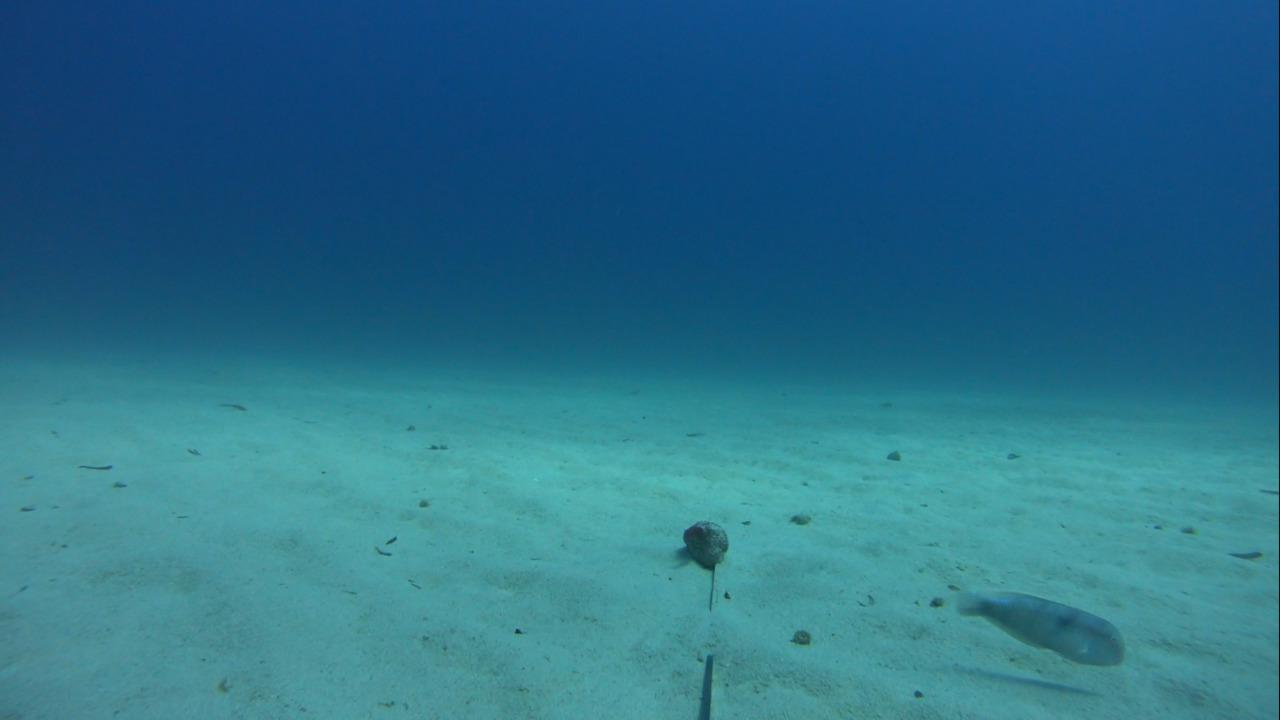raor: (954, 584, 1132, 672)
